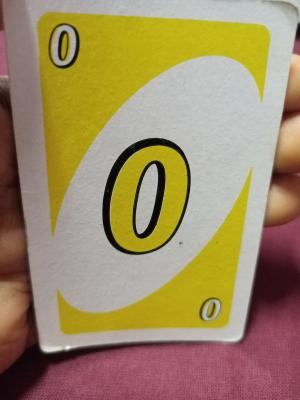yellow: (42, 15, 137, 87)
